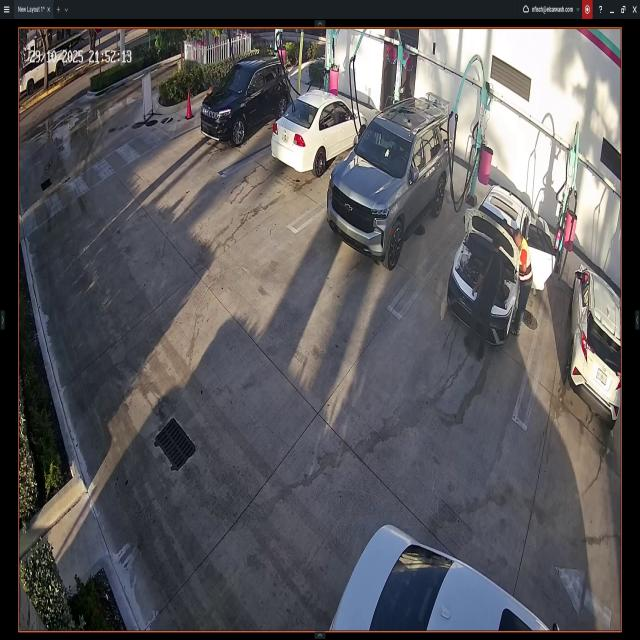Car: (330, 520, 562, 632), (328, 96, 447, 265), (449, 185, 555, 342), (570, 264, 620, 425), (200, 62, 291, 143), (272, 90, 366, 168)
